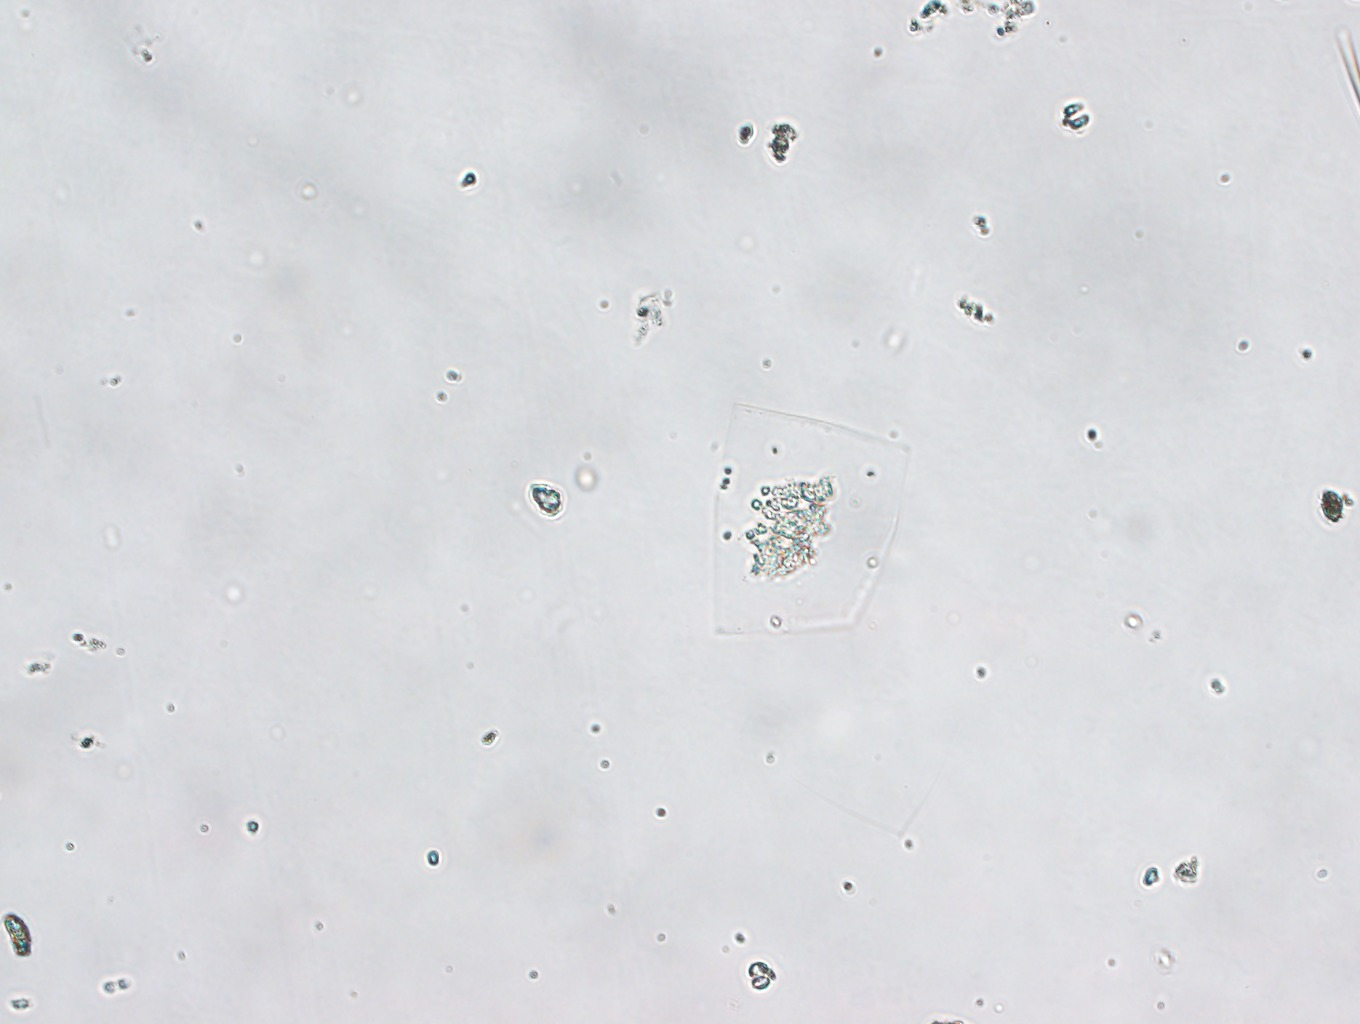helicotheca: (695, 397, 916, 653)
